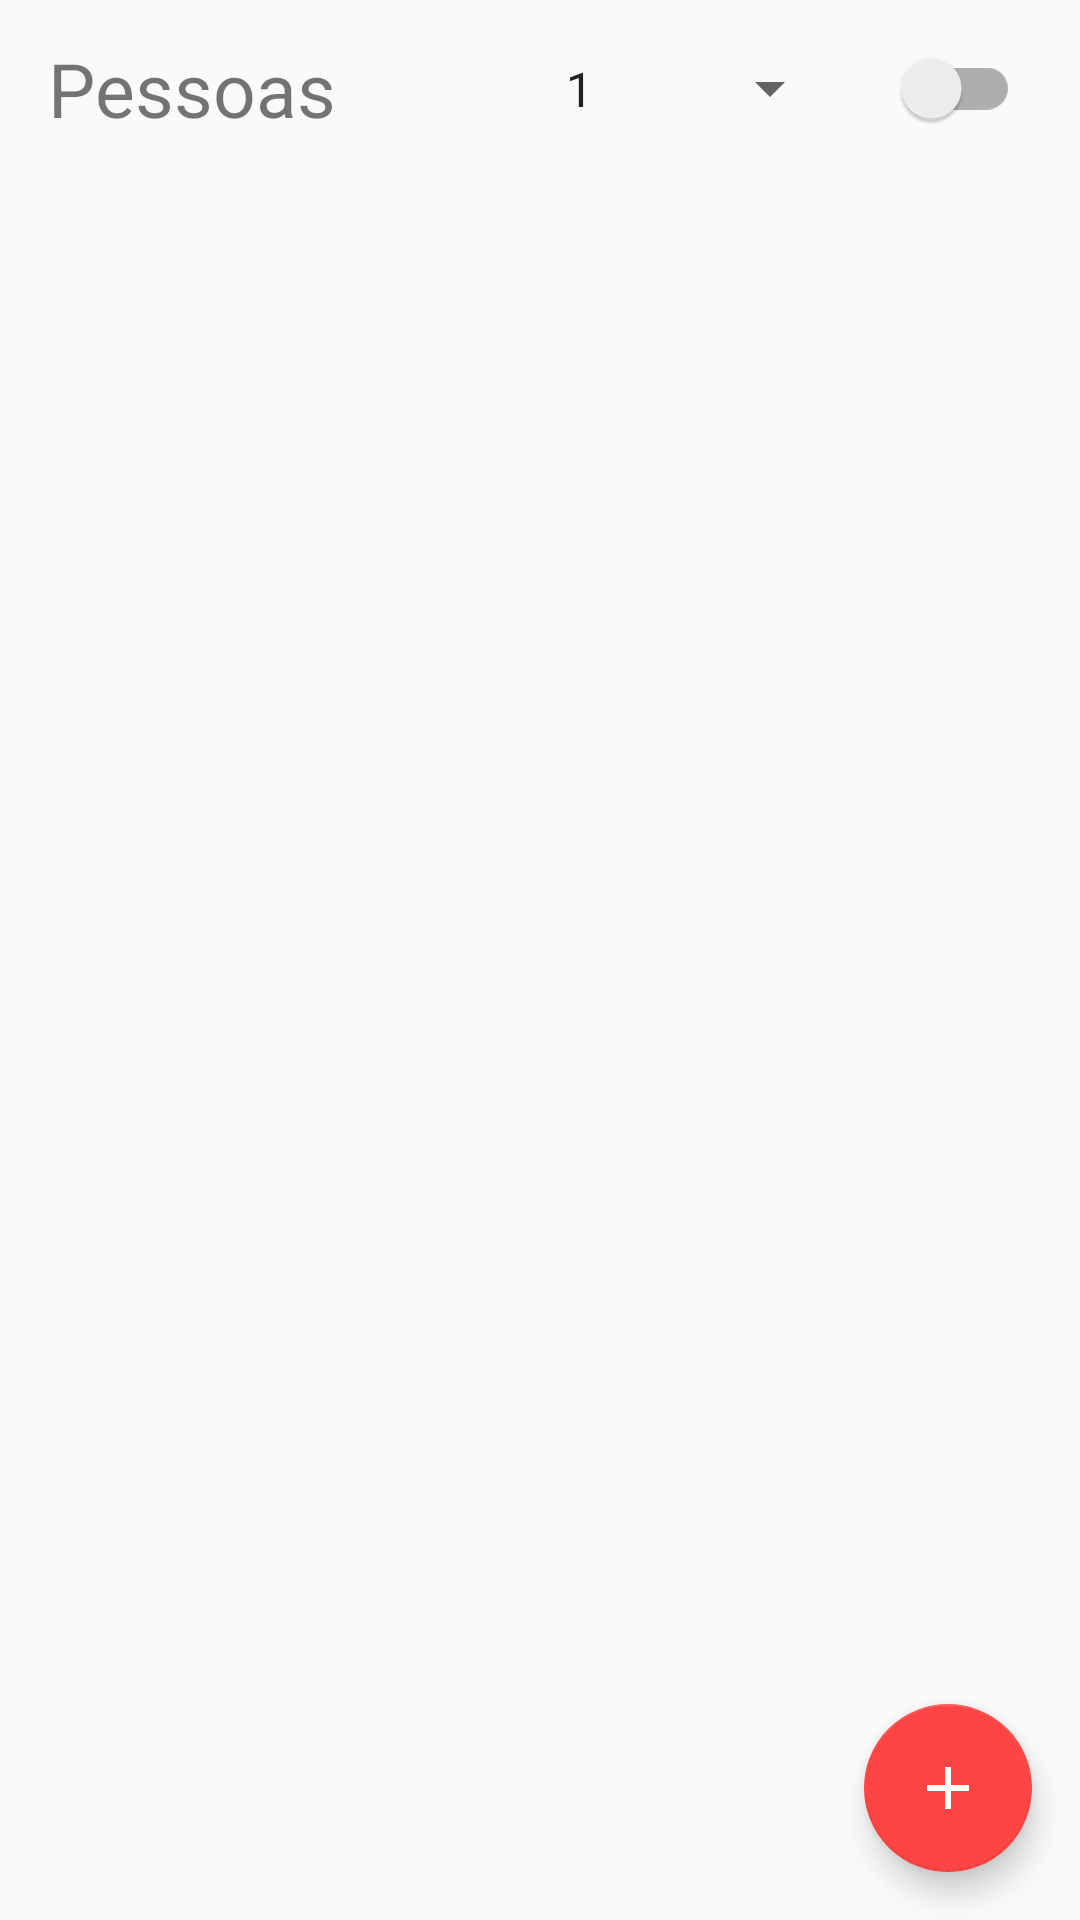

Icons on this 1080*1920 Android screen, each with the point to tap as (x=x, y=y):
add circle: (x=948, y=1788)
